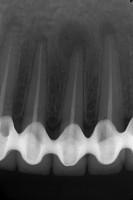Furcation Involvement: (57, 19, 89, 59), (99, 20, 115, 42)
